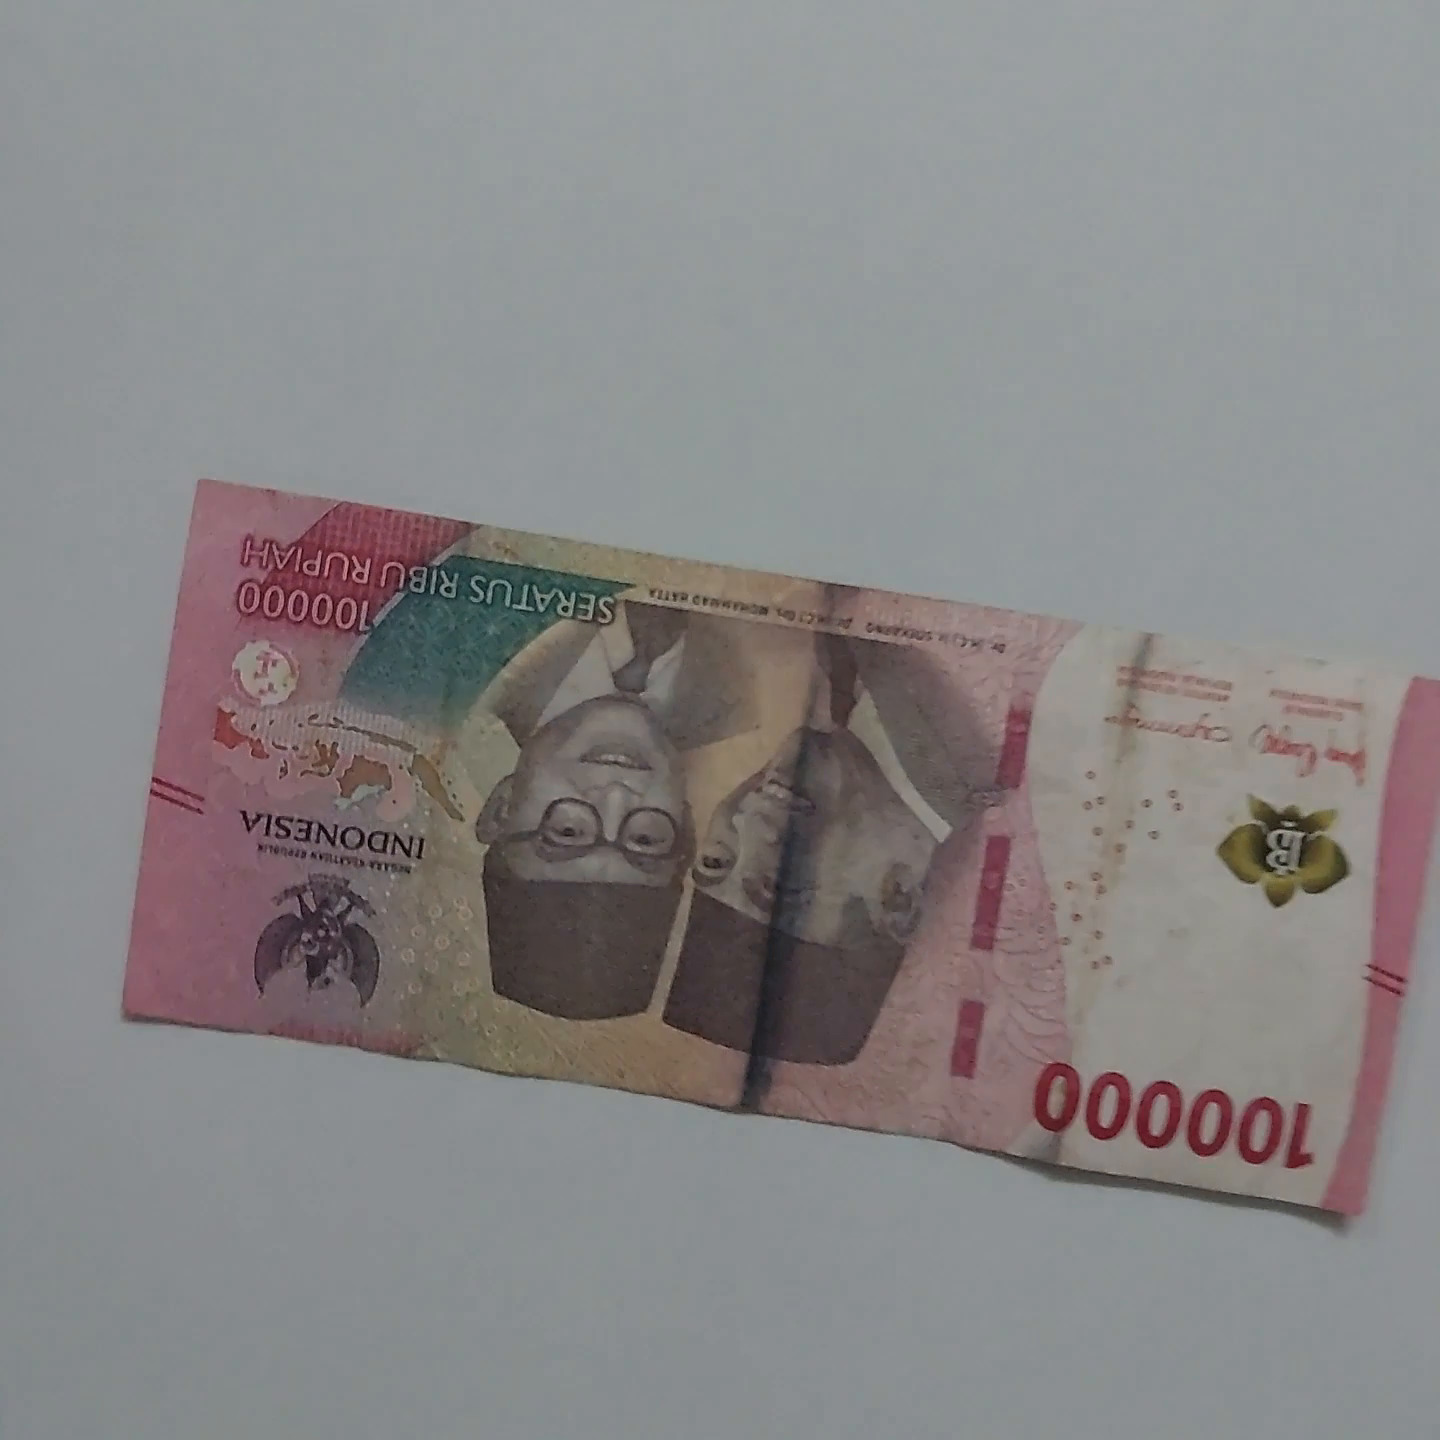100k: (120, 422, 1440, 1257)
